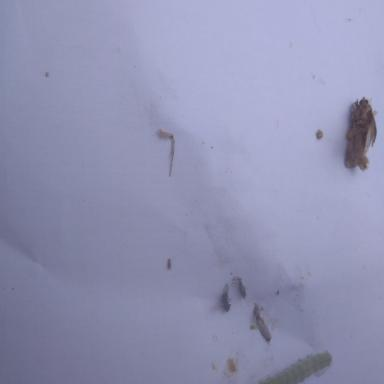pbw: (257, 317, 272, 352)
